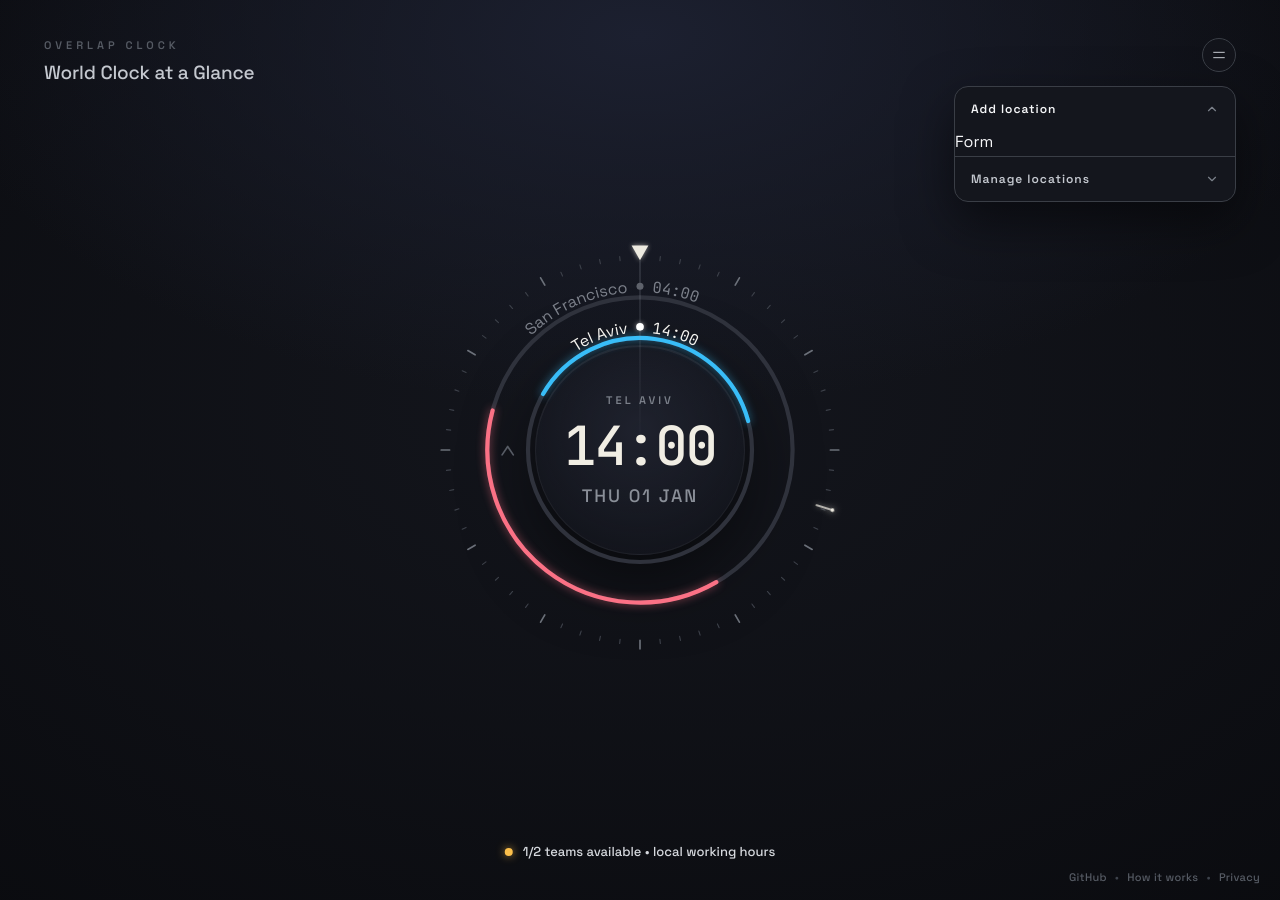
Test: WorldClock manage-locations list › lists home first, then rings, once the Manage locations accordion section is opened
What coordinates should you click on to do the following:
click the button with test id "manage-locations-section-toggle"
I would click on:
 (1031, 179)
Its box is top-left (955, 157), bottom-right (1235, 201).
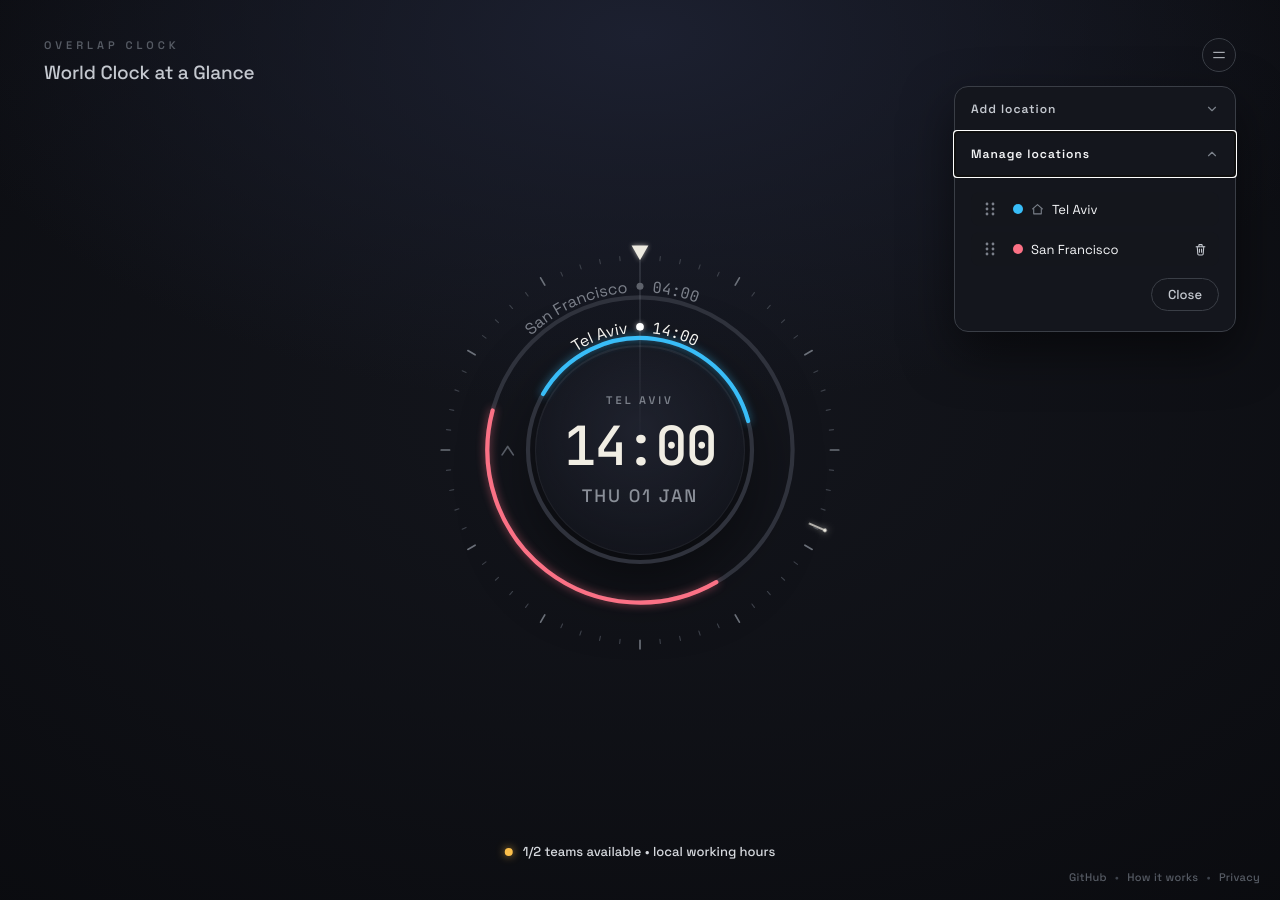
Result: the number of list items is 2 at top-left (971, 192), bottom-right (1219, 226); top-left (971, 232), bottom-right (1219, 266)
Result: the list item "Tel Aviv" is shown at top-left (971, 192), bottom-right (1219, 226)
Result: the list item "San Francisco" is shown at top-left (971, 232), bottom-right (1219, 266)
